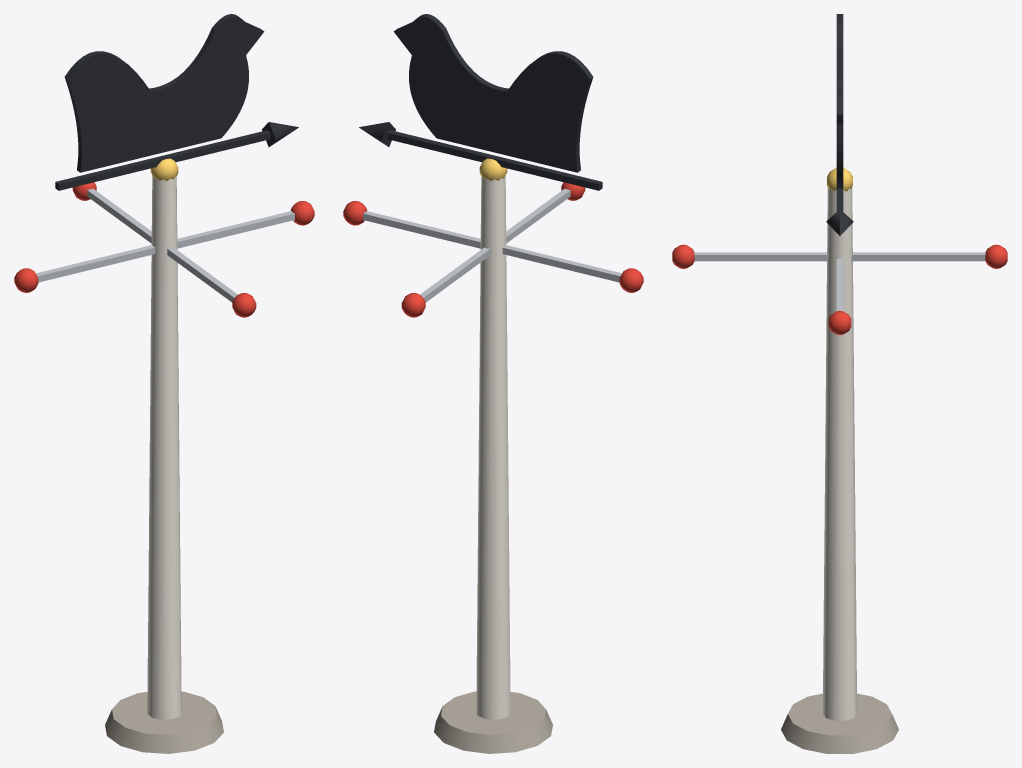
The model's file is scarecrow-vane.glb.
3 renders of one model, left to right at view 1: azimuth 30°, elevation 25°; view 2: azimuth 150°, elevation 25°; view 3: azimuth 270°, elevation 25°, orthographic.
Bounding box in the file's own units: 1.16 × 2.6 × 1.16.
